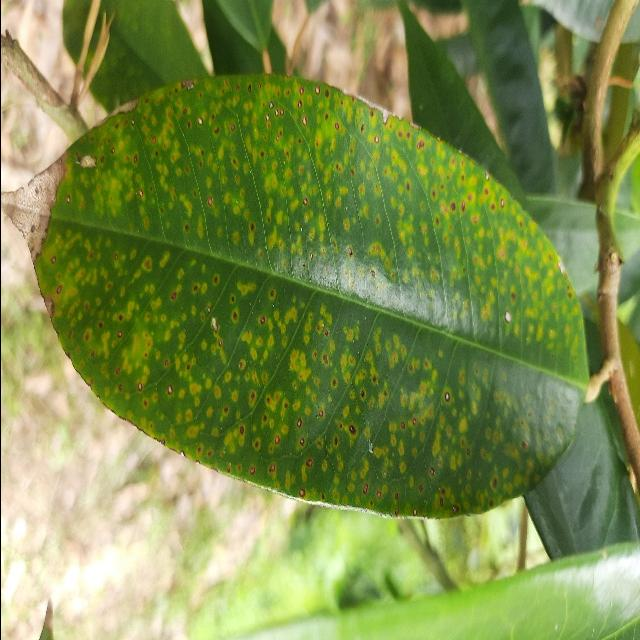Leaf Spot: (0, 69, 597, 521)
